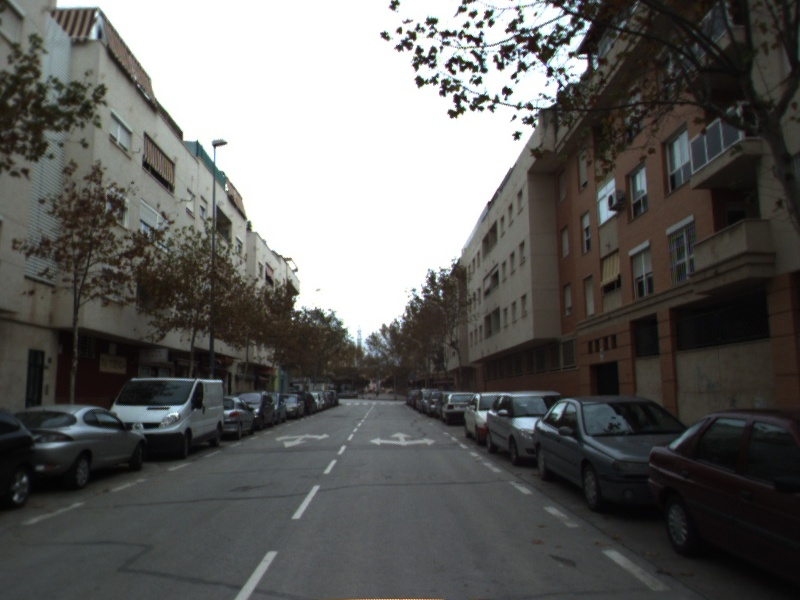STRAIGHT_LEFT_RIGHT: (368, 430, 438, 448)
